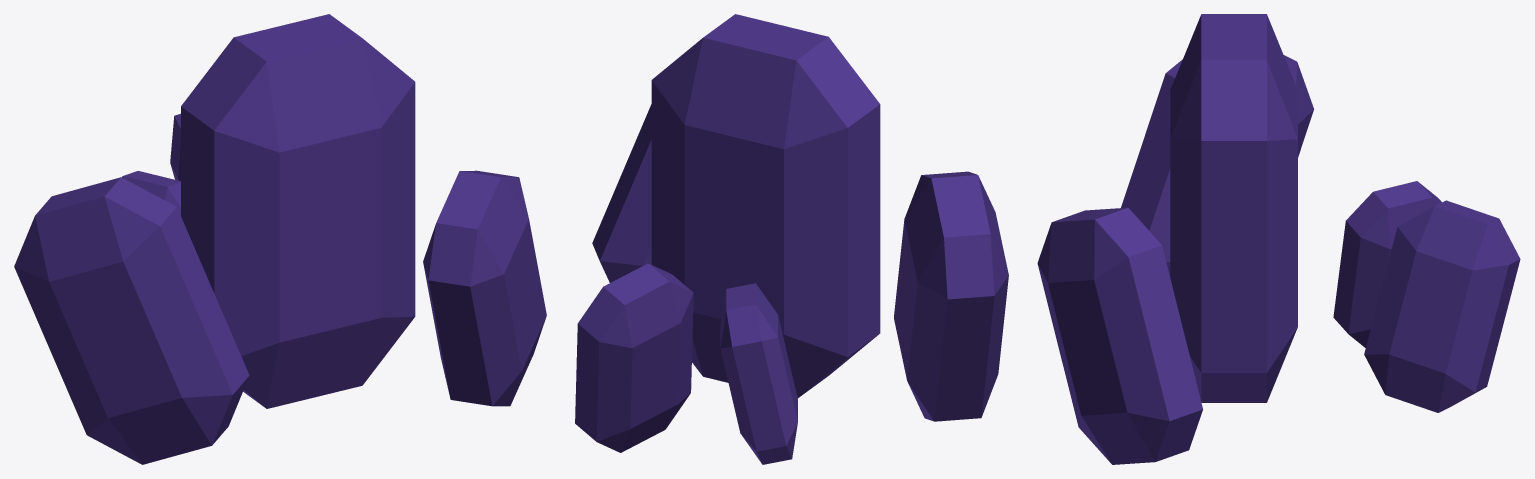
Rendered from nat_crystal_cluster_1.glb.
3 views of the same model, side by side, from view 1: azimuth 30°, elevation 25°; view 2: azimuth 150°, elevation 25°; view 3: azimuth 270°, elevation 25° (orthographic). The views are drawn at different scales.
Parts seen in each view (by area): view 1: nat_crystal_cluster_1; view 2: nat_crystal_cluster_1; view 3: nat_crystal_cluster_1.
Boxes of the visible parts, box(x1,y1,x2,y2) form: nat_crystal_cluster_1: box(14, 14, 546, 464); nat_crystal_cluster_1: box(575, 14, 1008, 464); nat_crystal_cluster_1: box(1037, 14, 1520, 464).
Bounding box in the file's own units: 2.44 × 1.8 × 2.2.
